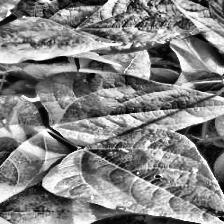Bean Rust: (47, 127, 224, 224), (40, 75, 224, 147), (0, 93, 53, 224), (63, 0, 208, 43)
